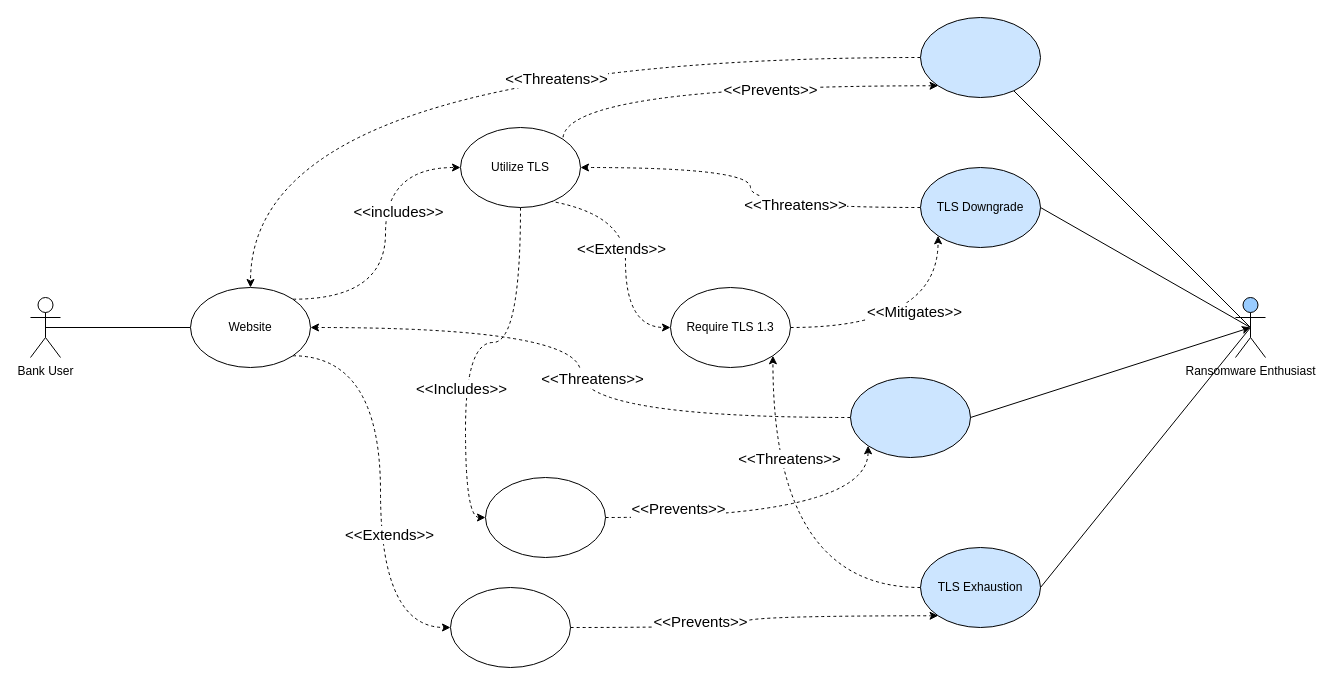
Some shapes in this 1332 by 685 pixel diagram are drawn without their labels. Each missing label, with the centre of its shape:
"Enable HSTS" goes at (x=545, y=517).
"Internal Only Site" goes at (x=510, y=627).
"Packet Sniffing" goes at (x=980, y=57).
"TLS Stripping" goes at (x=910, y=417).
